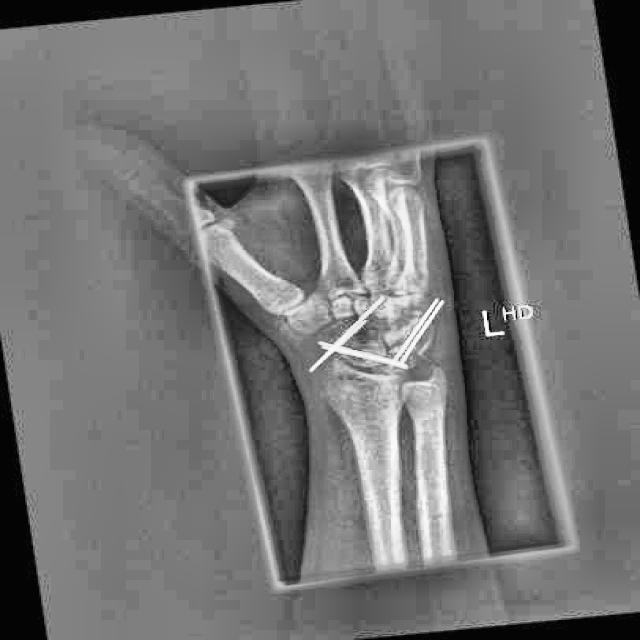wrist positive: (308, 317, 444, 372)
